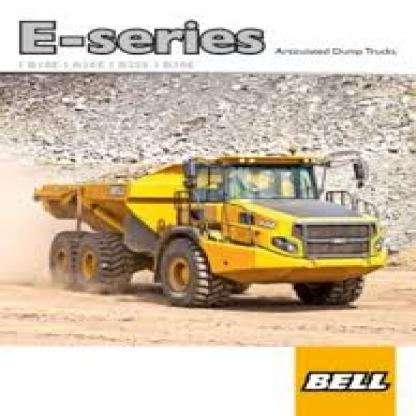bull_dozer/loader/grader: (15, 146, 388, 310)
